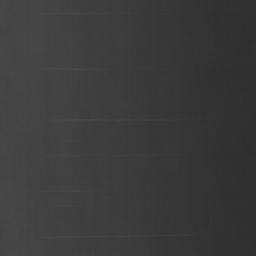Waist folding: (42, 232, 191, 240), (56, 117, 168, 123), (43, 10, 104, 17), (50, 66, 97, 72), (49, 188, 87, 194)
